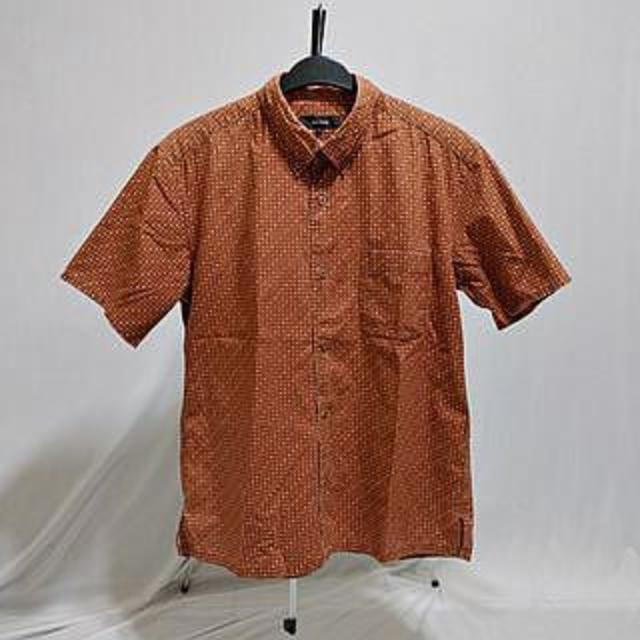SHORT: (57, 53, 577, 588)
